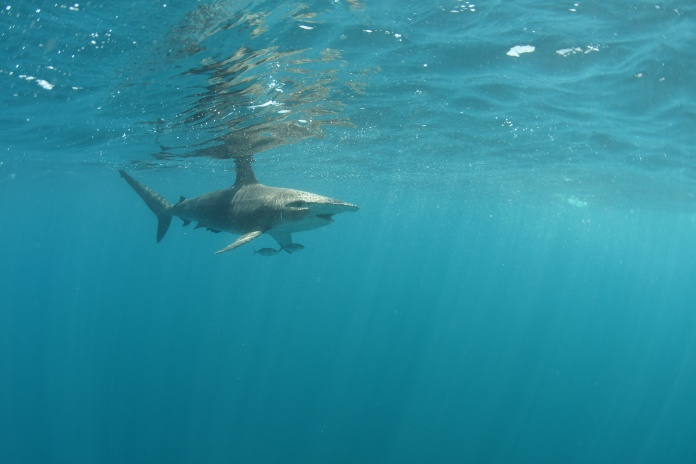Hammer: (101, 142, 379, 280)
